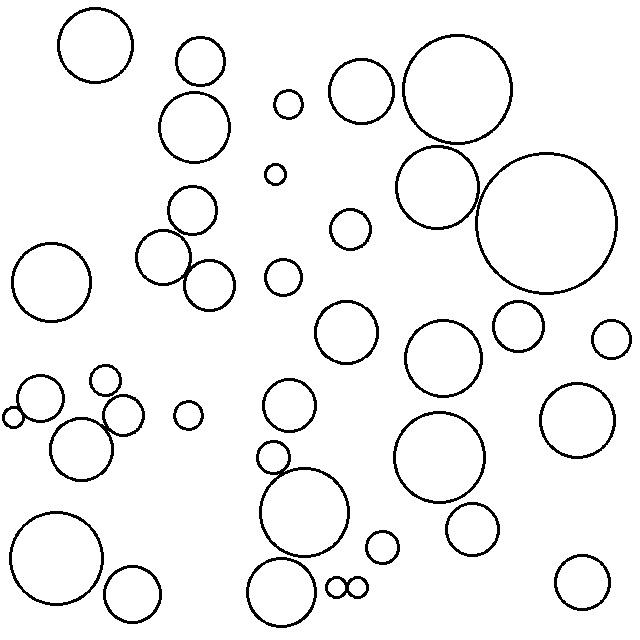circle: (474, 148, 621, 297), (402, 32, 517, 147), (8, 507, 106, 608), (392, 407, 488, 505), (257, 464, 353, 562), (392, 140, 482, 232), (9, 238, 95, 326), (400, 316, 487, 400), (54, 5, 137, 87), (536, 380, 619, 461), (155, 88, 235, 167), (243, 553, 320, 630), (325, 55, 398, 128), (311, 296, 382, 367), (48, 415, 117, 486), (101, 560, 166, 628), (550, 552, 614, 614), (259, 374, 322, 436), (133, 227, 194, 289), (442, 498, 503, 560), (490, 296, 549, 357), (181, 256, 240, 315), (172, 33, 230, 89), (166, 182, 220, 238), (15, 372, 67, 425), (327, 204, 375, 255), (100, 392, 147, 440), (588, 316, 636, 362), (262, 254, 307, 300), (362, 526, 402, 568), (253, 439, 294, 476), (85, 361, 125, 398), (171, 397, 207, 434), (271, 87, 308, 122), (261, 161, 291, 188), (345, 573, 372, 601), (324, 573, 349, 602), (0, 405, 27, 430)
